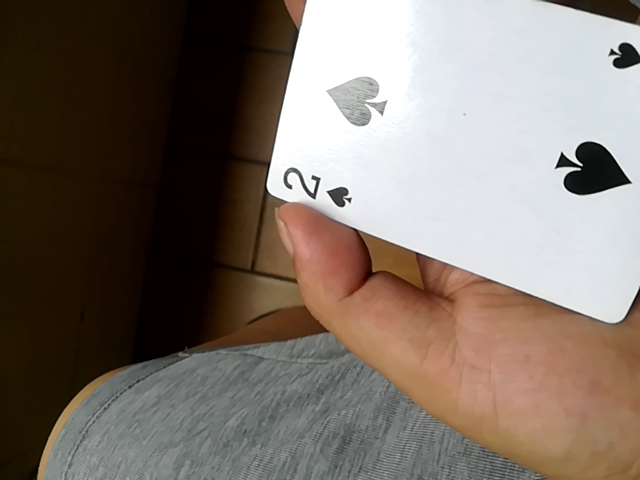ht 2: (265, 0, 640, 328)
